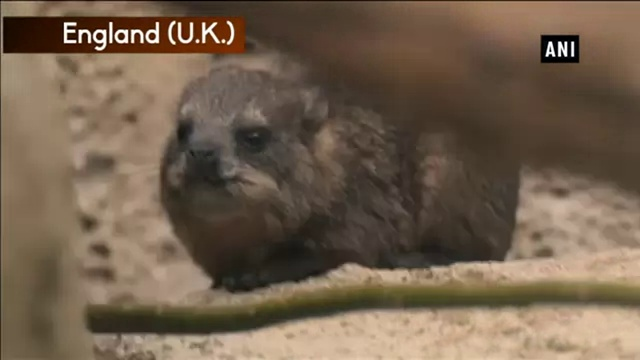Rock Hyrex: (159, 65, 523, 292)
